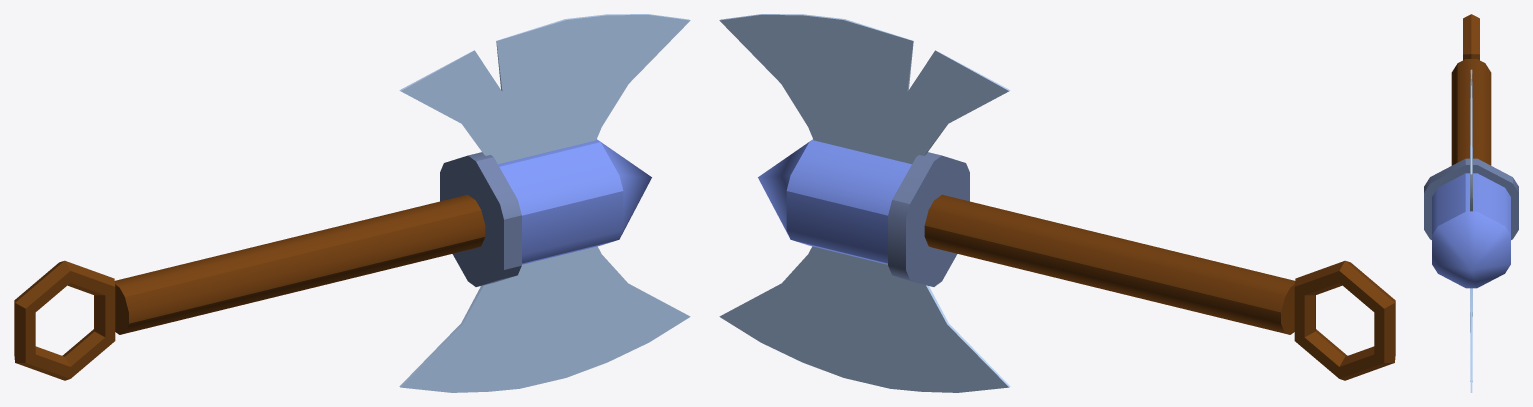
File: Axe.fbx
The picture shows the model from 3 angles, left to right: view 1: azimuth 30°, elevation 25°; view 2: azimuth 150°, elevation 25°; view 3: azimuth 270°, elevation 25°; orthographic projection. The views are drawn at different scales.
Parts seen in each view (by area): view 1: Axe_cartoon; view 2: Axe_cartoon; view 3: Axe_cartoon.
Part boxes in pixels (x1=…): Axe_cartoon: x1=14, y1=14, x2=690, y2=392; Axe_cartoon: x1=719, y1=14, x2=1395, y2=392; Axe_cartoon: x1=1424, y1=14, x2=1518, y2=392.
Size of the model in its own units: 0.3787 by 0.1919 by 0.0624.
